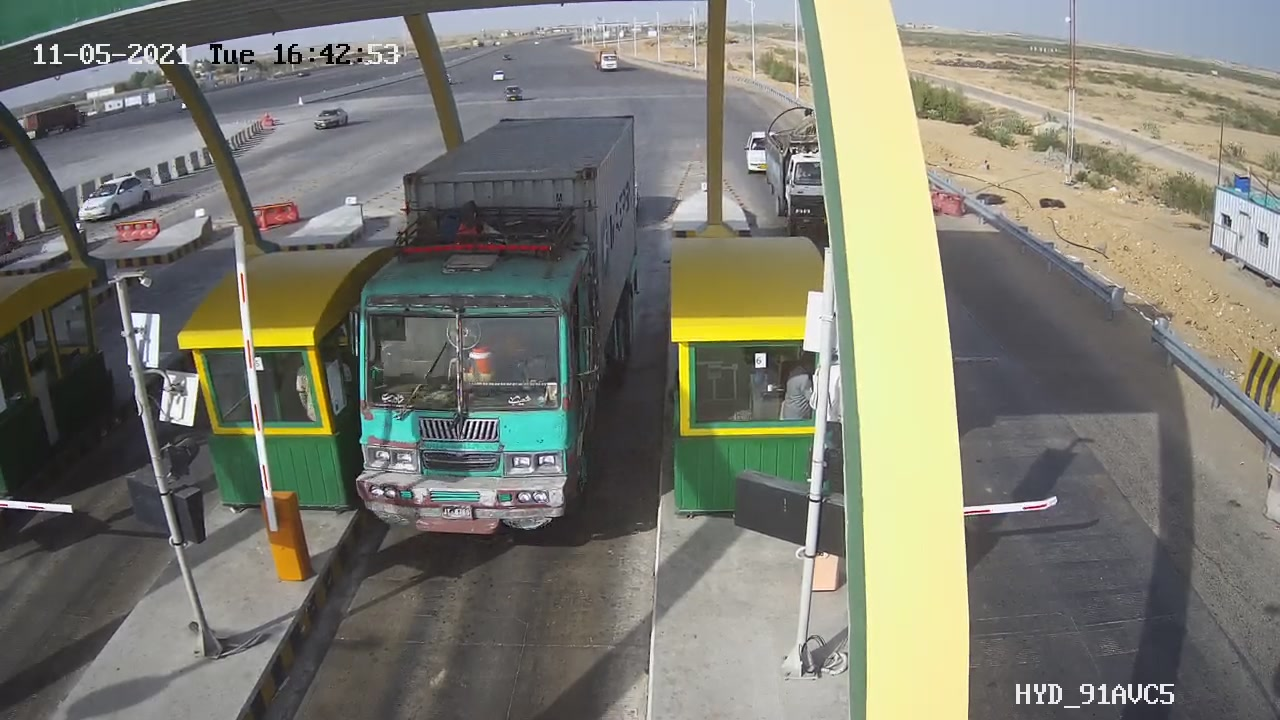F6: (339, 97, 666, 556)
